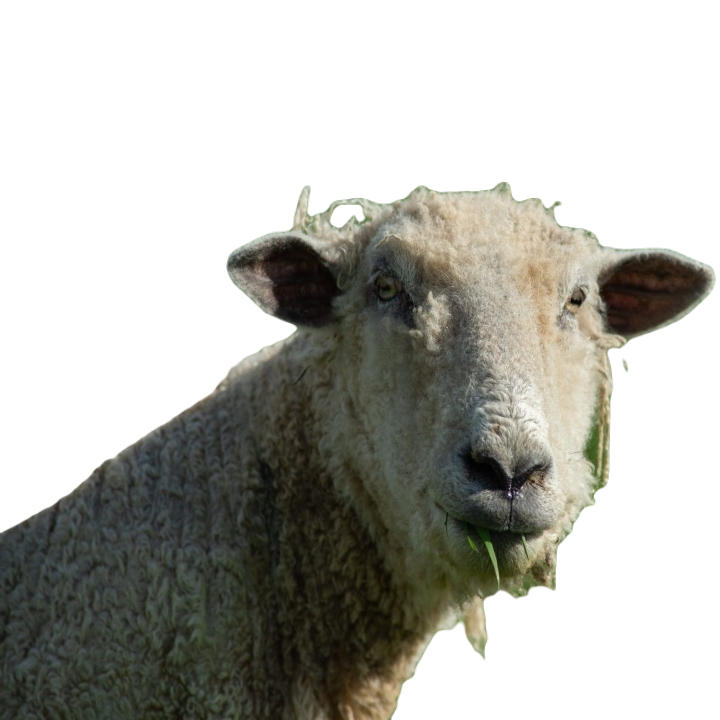Sheep: (0, 176, 719, 719)
